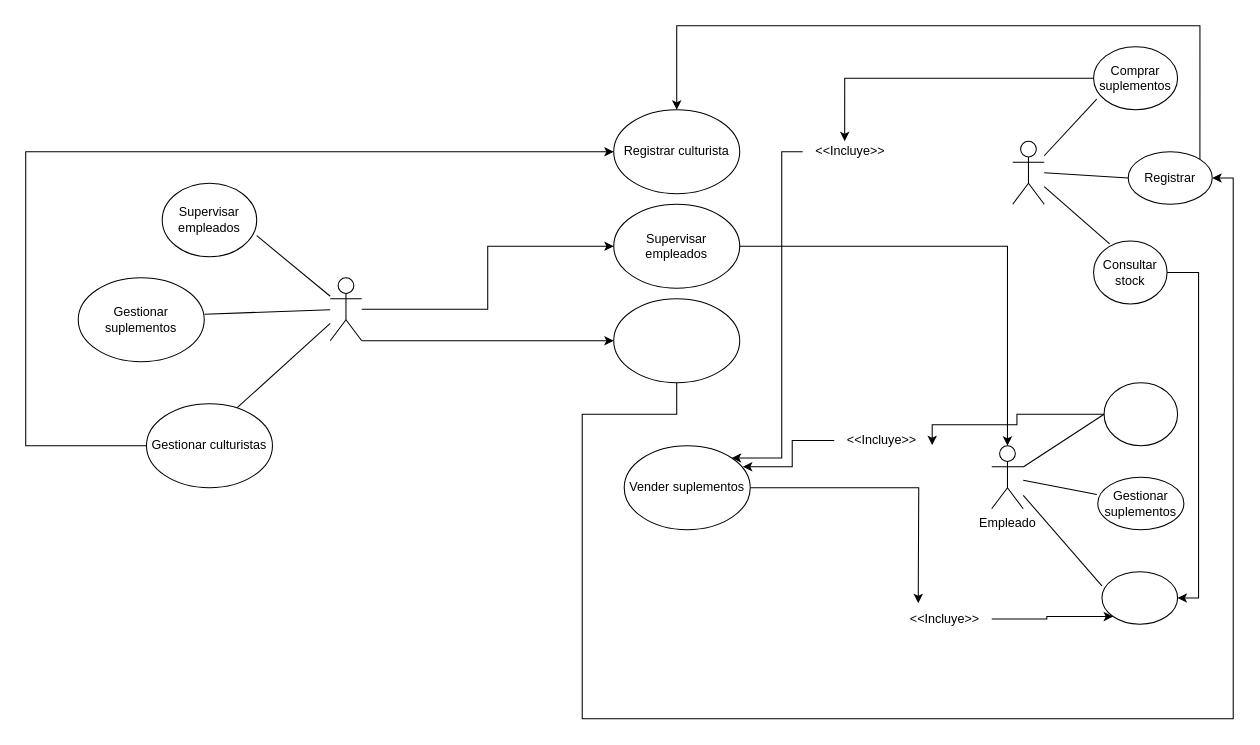
This 1260x745 diagram has some shape labels left out. Here are the shapes that lost their labels. From the top down, the box of each, then its label:
(1012, 140, 1044, 204): Culturistas
(329, 277, 362, 341): Administrador
(613, 298, 740, 383): Gestionar datos del cliente
(1103, 382, 1178, 446): Registrar compra
(1101, 571, 1178, 624): Verificar stock
